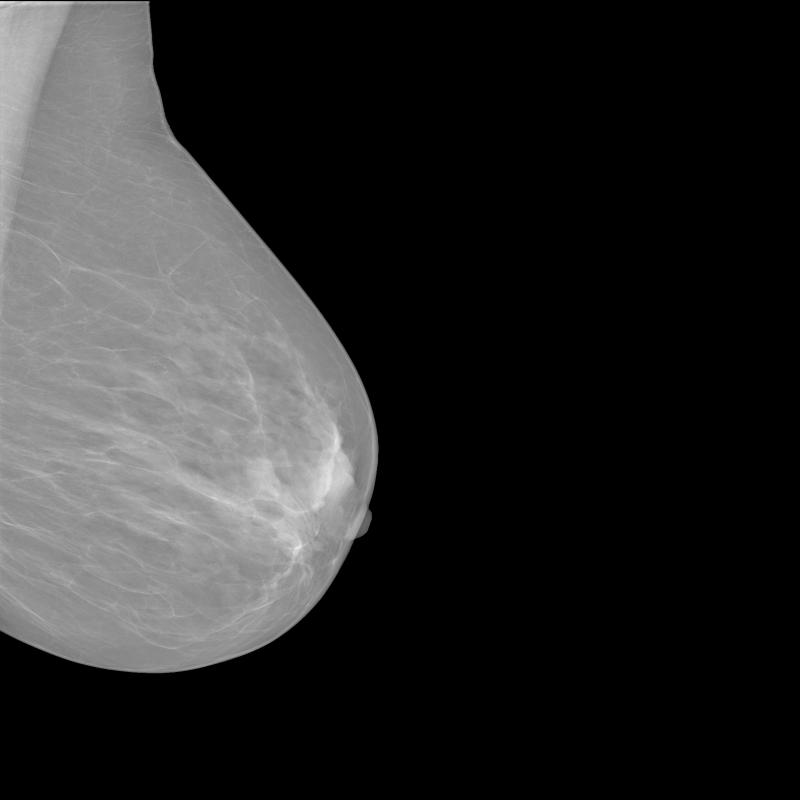No-Mass: (314, 448, 356, 497)
